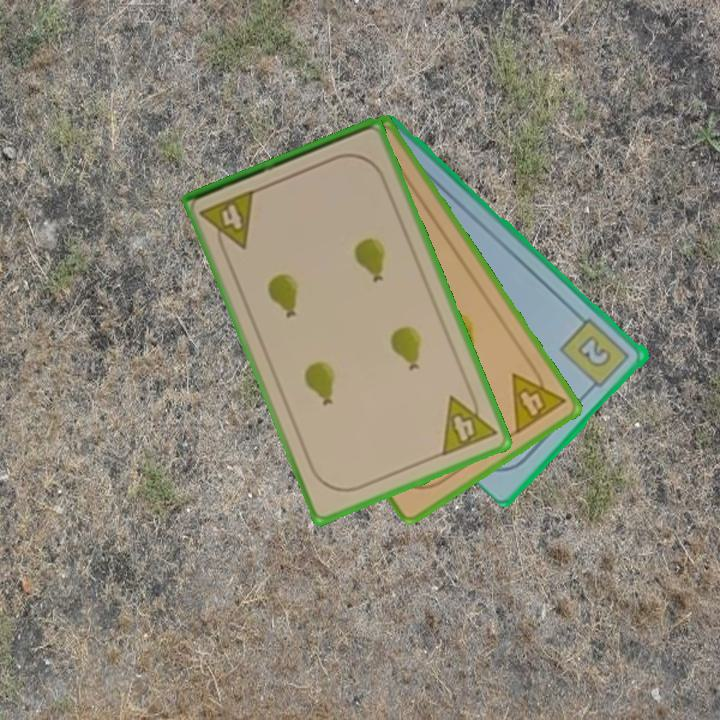2b: (557, 315, 634, 396)
4p: (508, 358, 569, 438), (438, 385, 500, 459), (197, 186, 259, 258)
